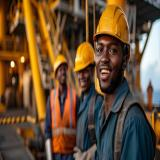Helmet: (93, 3, 130, 47), (73, 41, 95, 72), (53, 55, 68, 79)
Vest: (50, 84, 77, 154)
